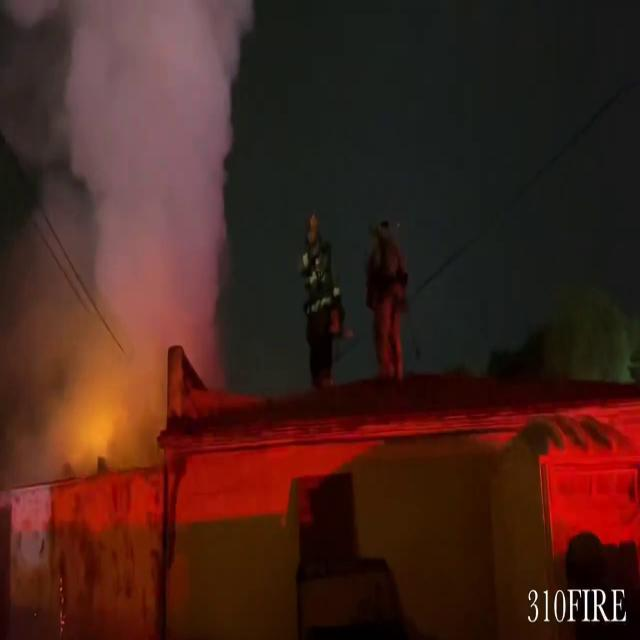Smoke: (1, 0, 248, 444)
